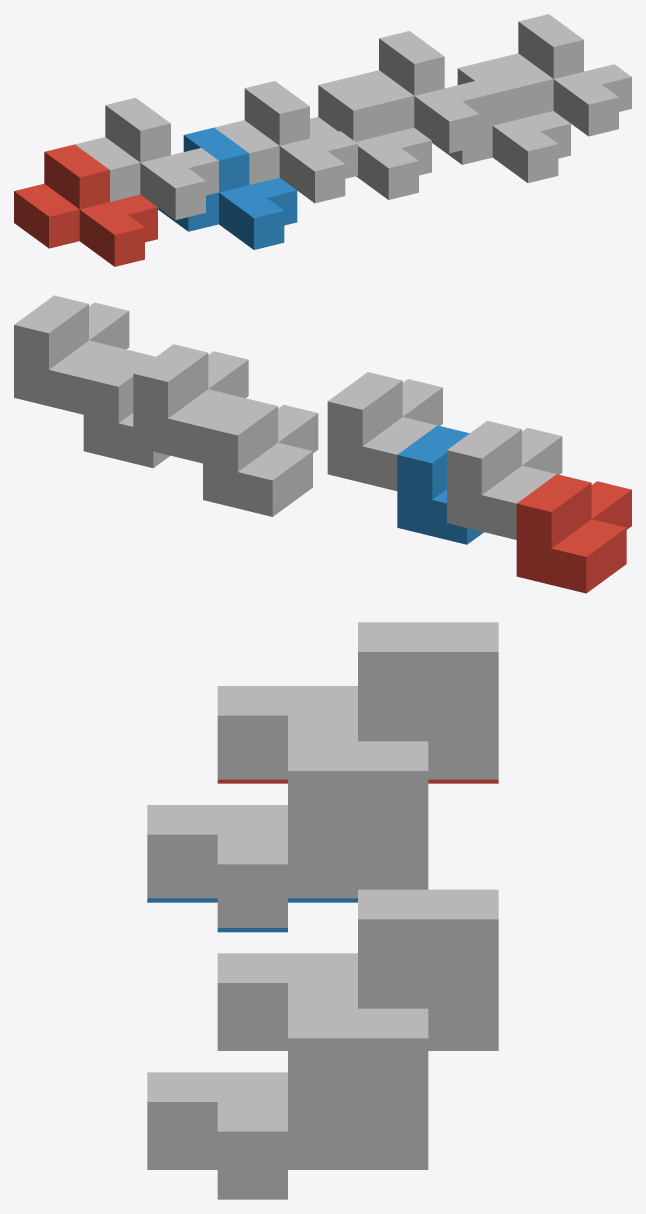
File: tiling.obj
3 renders of one model, top to bottom at view 1: azimuth 30°, elevation 25°; view 2: azimuth 150°, elevation 25°; view 3: azimuth 270°, elevation 25°, orthographic. The views are drawn at different scales.
Parts seen in each view (by area): view 1: copy_1_domain_1, copy_1_domain_4, copy_1_domain_7, copy_1_domain_8, copy_1_domain_3, copy_1_domain_5, copy_1_domain_2, copy_1_domain_6; view 2: copy_1_domain_1, copy_1_domain_5, copy_1_domain_4, copy_1_domain_7, copy_1_domain_3, copy_1_domain_8, copy_1_domain_6, copy_1_domain_2; view 3: copy_1_domain_8, copy_1_domain_4, copy_1_domain_3, copy_1_domain_7, copy_1_domain_6, copy_1_domain_2.
Part boxes in pixels (left/top/right/bottom): copy_1_domain_1: left=14, top=144, right=157, bottom=266; copy_1_domain_4: left=214, top=81, right=357, bottom=203; copy_1_domain_7: left=349, top=31, right=492, bottom=153; copy_1_domain_8: left=488, top=14, right=631, bottom=136; copy_1_domain_3: left=75, top=97, right=218, bottom=220; copy_1_domain_5: left=310, top=77, right=431, bottom=199; copy_1_domain_2: left=158, top=127, right=297, bottom=249; copy_1_domain_6: left=432, top=61, right=570, bottom=182; copy_1_domain_1: left=516, top=474, right=631, bottom=593; copy_1_domain_5: left=203, top=397, right=318, bottom=516; copy_1_domain_4: left=327, top=372, right=442, bottom=490; copy_1_domain_7: left=133, top=344, right=248, bottom=463; copy_1_domain_3: left=447, top=420, right=562, bottom=539; copy_1_domain_8: left=14, top=295, right=129, bottom=414; copy_1_domain_6: left=83, top=349, right=169, bottom=468; copy_1_domain_2: left=397, top=425, right=483, bottom=544; copy_1_domain_8: left=147, top=1008, right=428, bottom=1195; copy_1_domain_4: left=147, top=741, right=428, bottom=927; copy_1_domain_3: left=217, top=622, right=498, bottom=779; copy_1_domain_7: left=217, top=889, right=498, bottom=1046; copy_1_domain_6: left=147, top=1165, right=428, bottom=1199; copy_1_domain_2: left=147, top=898, right=357, bottom=932.
Bounding box in the file's own units: 18 × 3 × 5.
